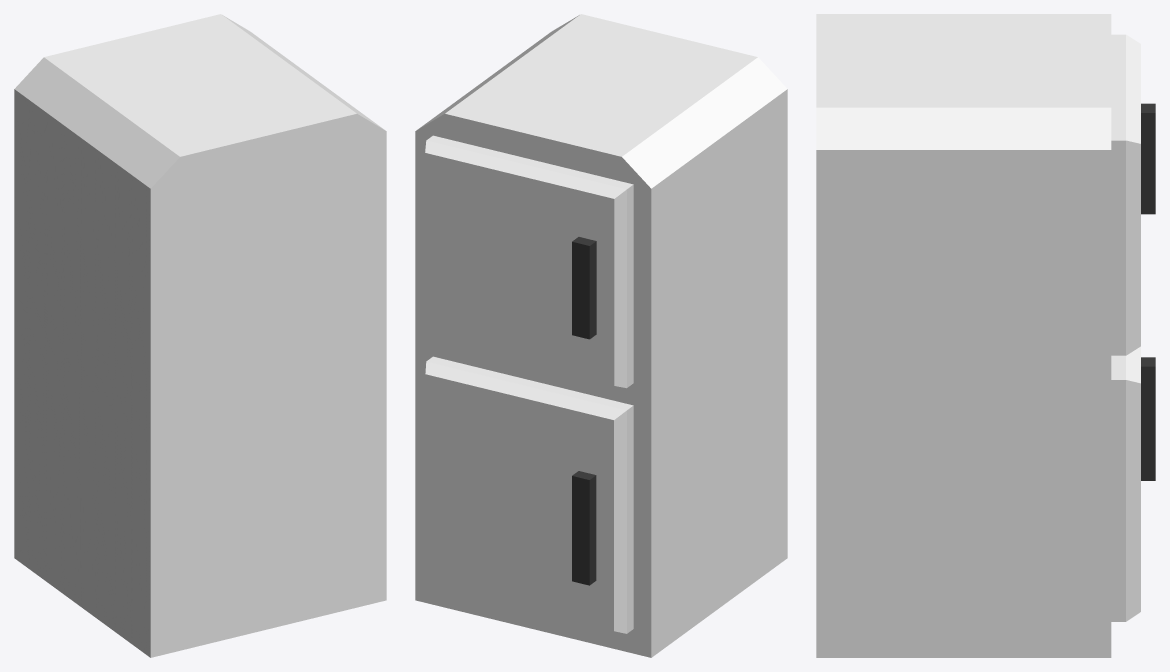
File: fridge.fbx
The picture shows the model from 3 angles, left to right: view 1: azimuth 30°, elevation 25°; view 2: azimuth 150°, elevation 25°; view 3: azimuth 270°, elevation 25°; orthographic projection. The views are drawn at different scales.
Parts seen in each view (by area): view 1: Fridge; view 2: Fridge; view 3: Fridge.
Part boxes in pixels (bbox=[...]): Fridge: bbox=[14, 14, 386, 657]; Fridge: bbox=[415, 14, 787, 657]; Fridge: bbox=[816, 14, 1155, 657].
Size of the model in its own units: 200 by 400 by 230.
Materials: 1 (1 with a texture image).
